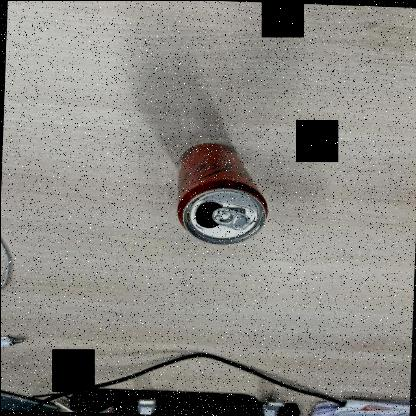Can: (176, 140, 268, 242)
